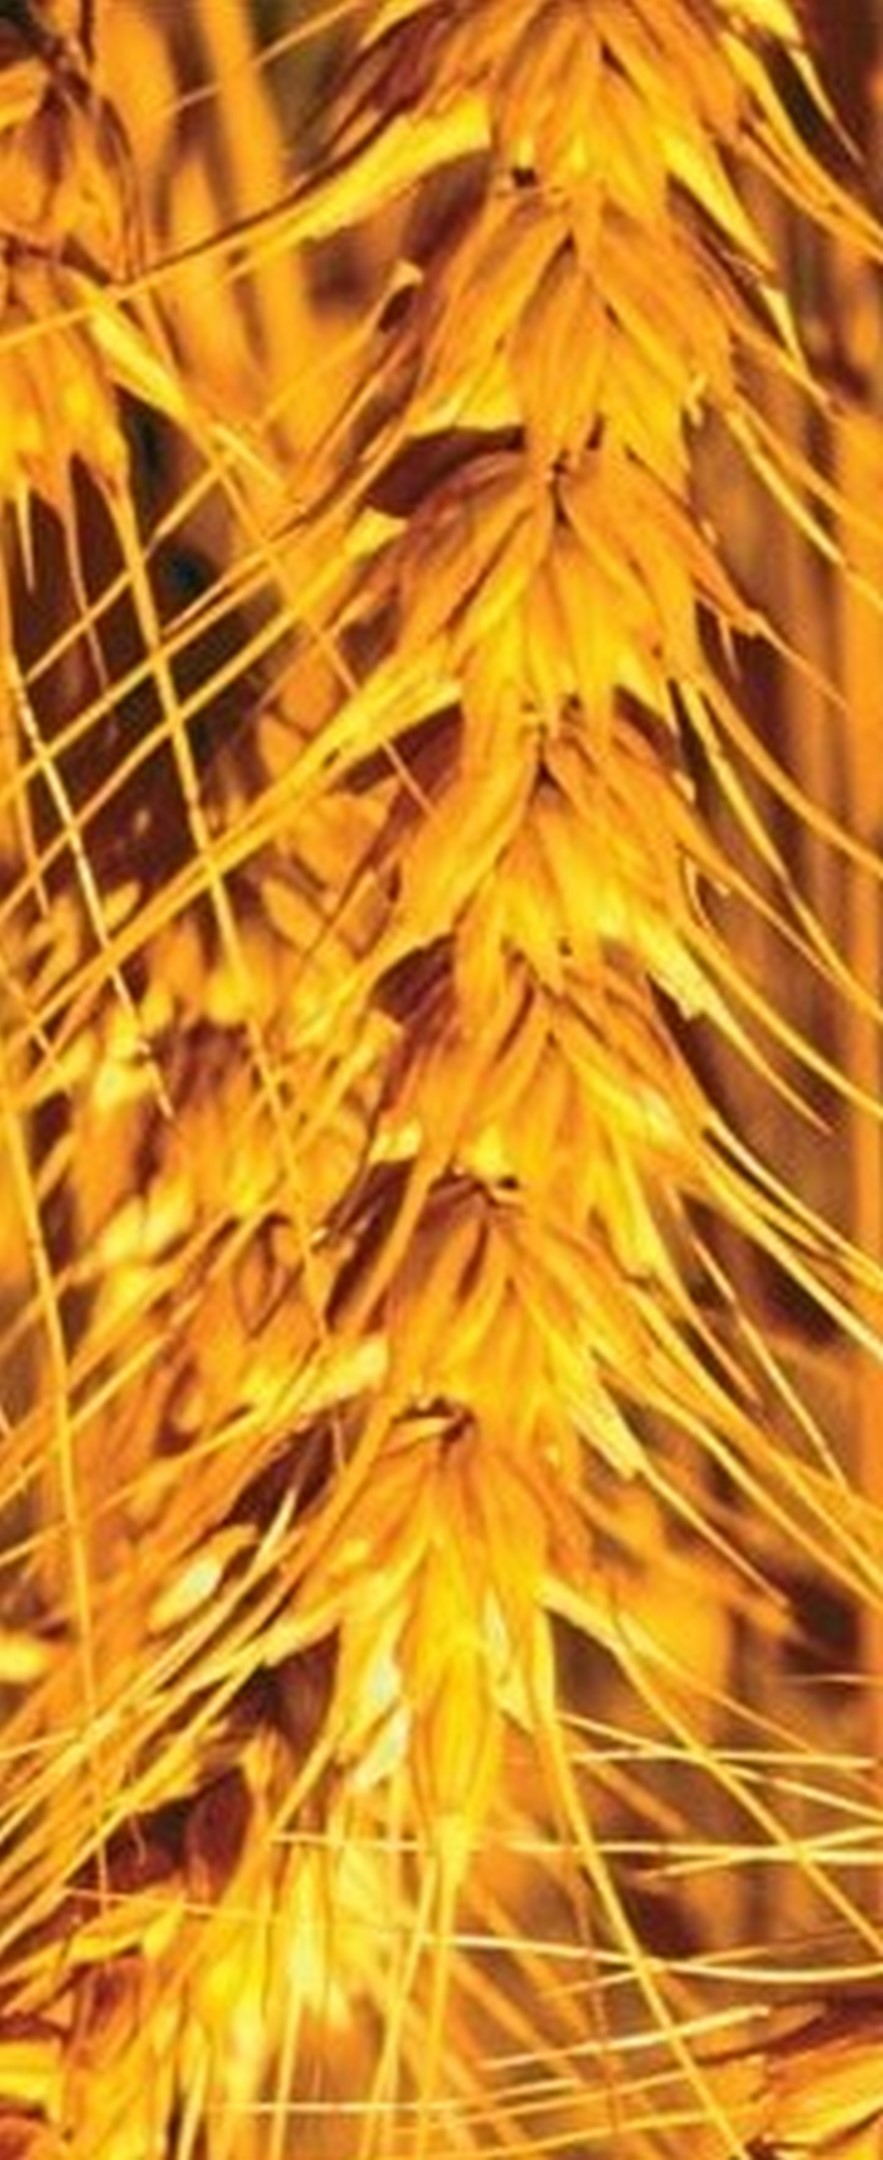Healthy Wheat: (193, 1, 810, 1851)
